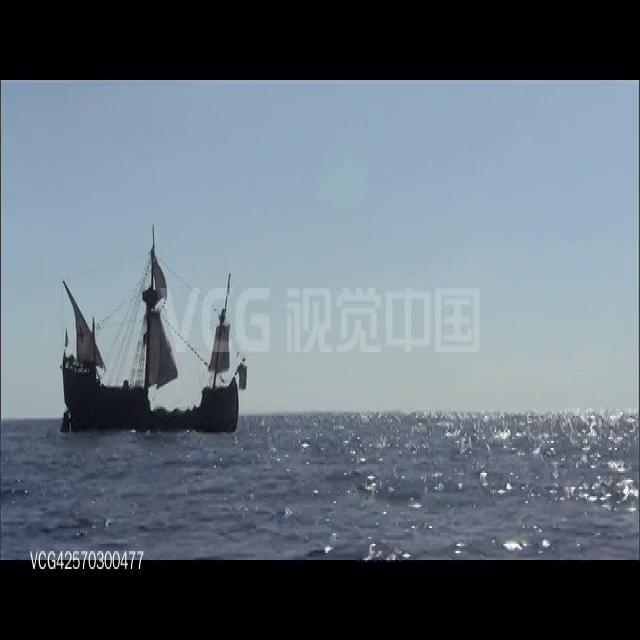sailboat: (52, 230, 244, 437)
